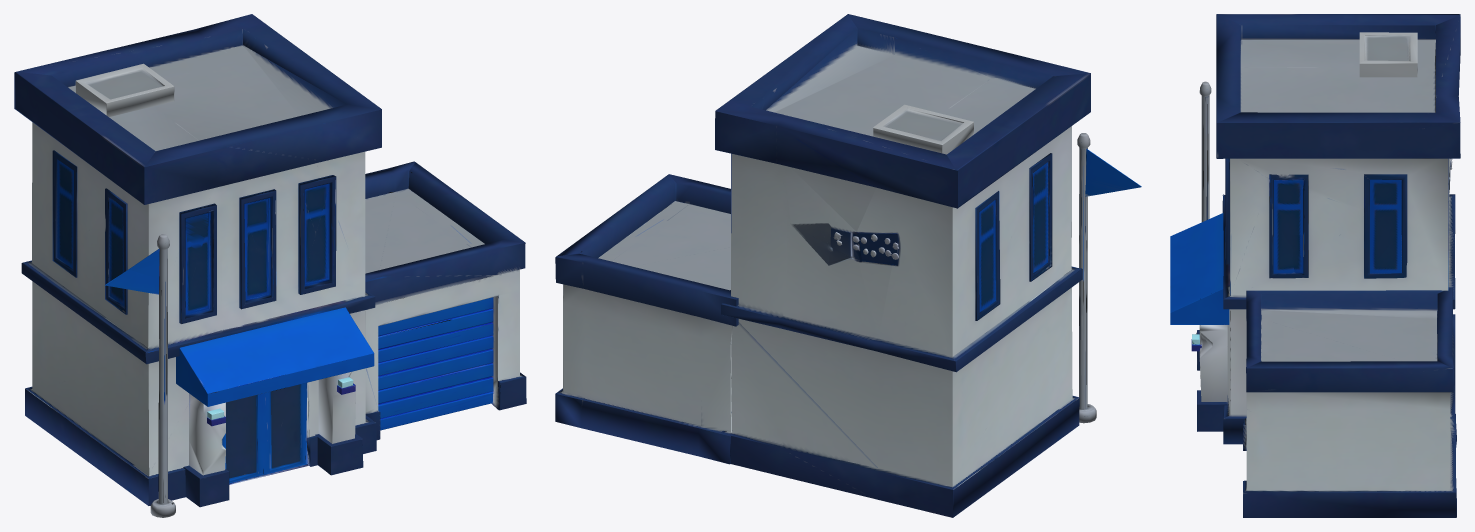
The model's file is 29-police-station.glb.
The picture shows the model from 3 angles, left to right: view 1: azimuth 30°, elevation 25°; view 2: azimuth 150°, elevation 25°; view 3: azimuth 270°, elevation 25°; orthographic projection. The views are drawn at different scales.
Visible parts, largest first — view 1: geometry_0; view 2: geometry_0; view 3: geometry_0.
Part boxes in pixels (x1=…): geometry_0: x1=14, y1=14, x2=526, y2=517; geometry_0: x1=555, y1=14, x2=1141, y2=517; geometry_0: x1=1170, y1=14, x2=1460, y2=517.
Bounding box in the file's own units: 0.9507 × 0.7104 × 0.5776.
1 material, 1 textured.
